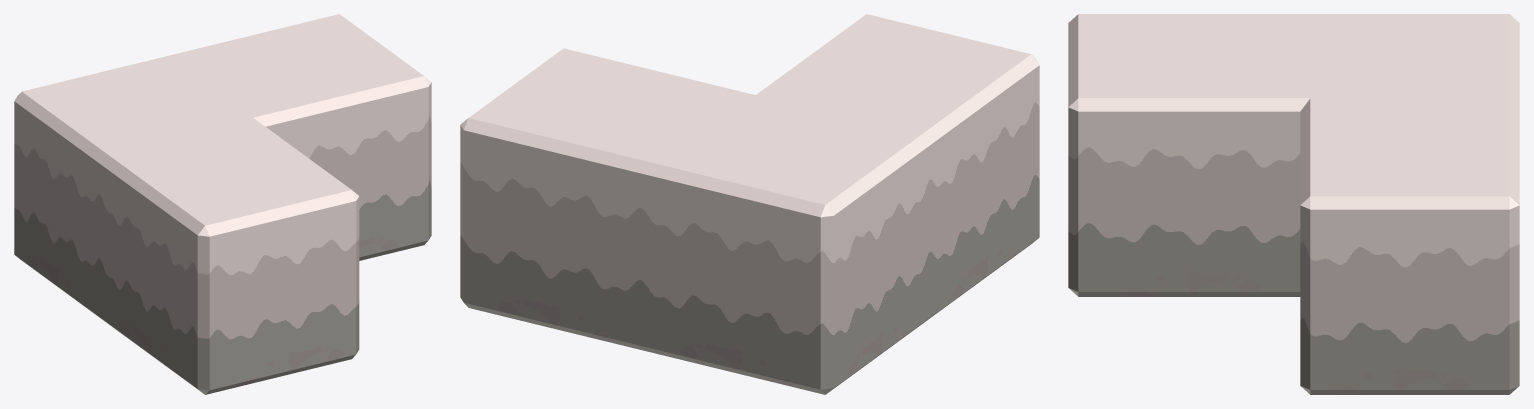
File: R4B_CornerL3_LOD1.glb
The picture shows the model from 3 angles, left to right: view 1: azimuth 30°, elevation 25°; view 2: azimuth 150°, elevation 25°; view 3: azimuth 270°, elevation 25°; orthographic projection. The views are drawn at different scales.
Visible parts, largest first — view 1: R4B_CornerL3_LOD1; view 2: R4B_CornerL3_LOD1; view 3: R4B_CornerL3_LOD1.
Part boxes in pixels (<box>): R4B_CornerL3_LOD1: <box>14,14,431,394</box>; R4B_CornerL3_LOD1: <box>460,14,1039,394</box>; R4B_CornerL3_LOD1: <box>1068,14,1519,394</box>.
Bounding box in the file's own units: 1.07 × 0.52 × 1.07.
Materials: 1 (1 with a texture image).
